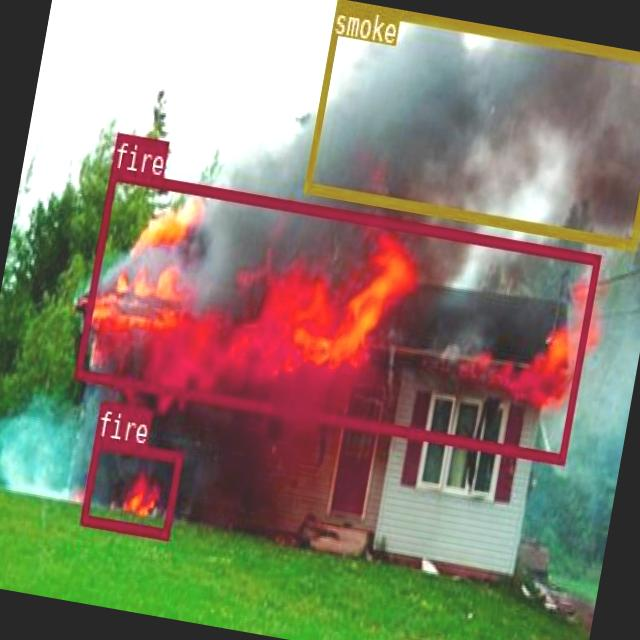fire: (73, 167, 600, 463), (79, 435, 182, 537)
smoke: (303, 0, 640, 246)
